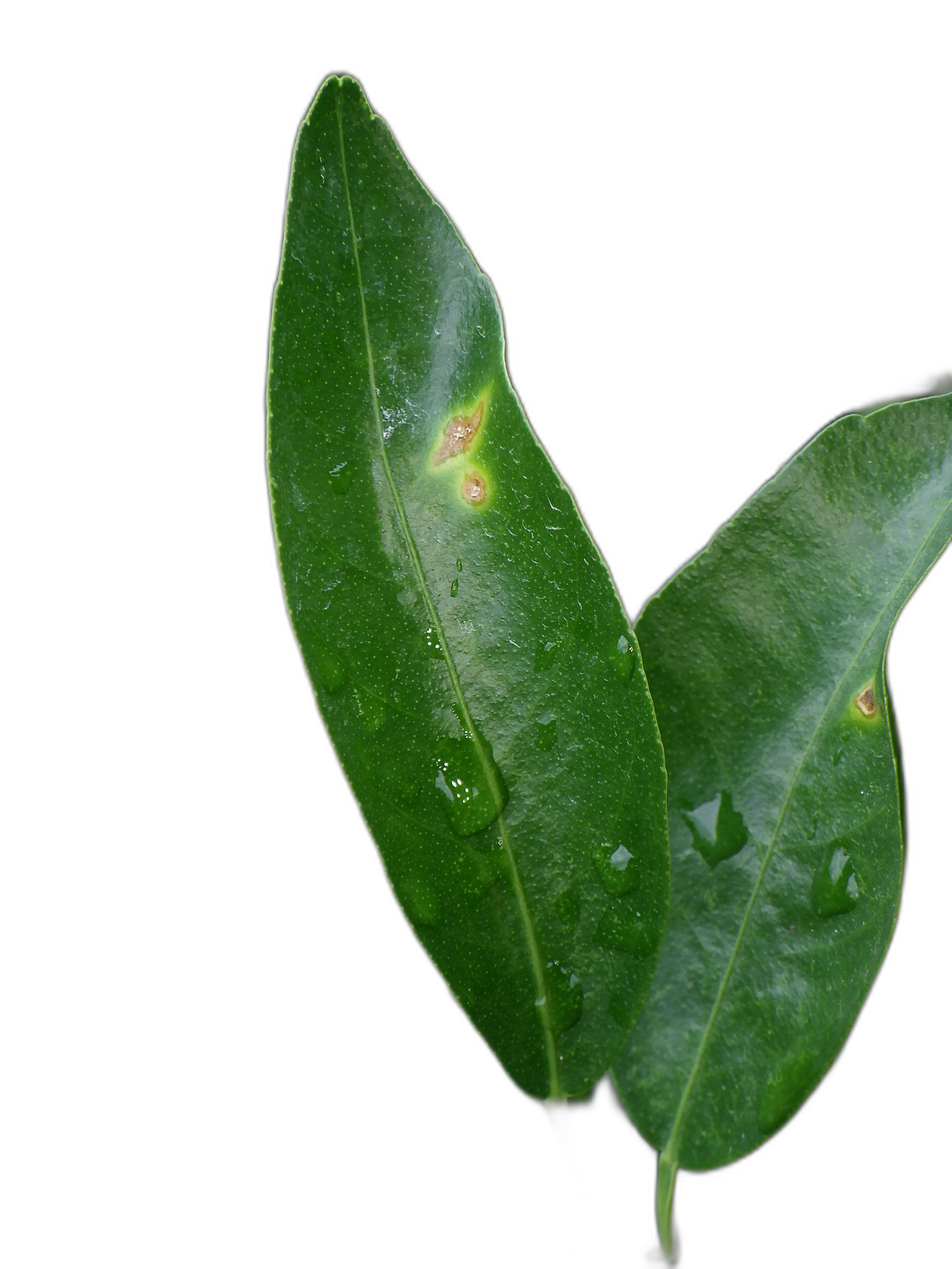Canker: (427, 390, 487, 465), (850, 683, 878, 721), (461, 469, 489, 507)
